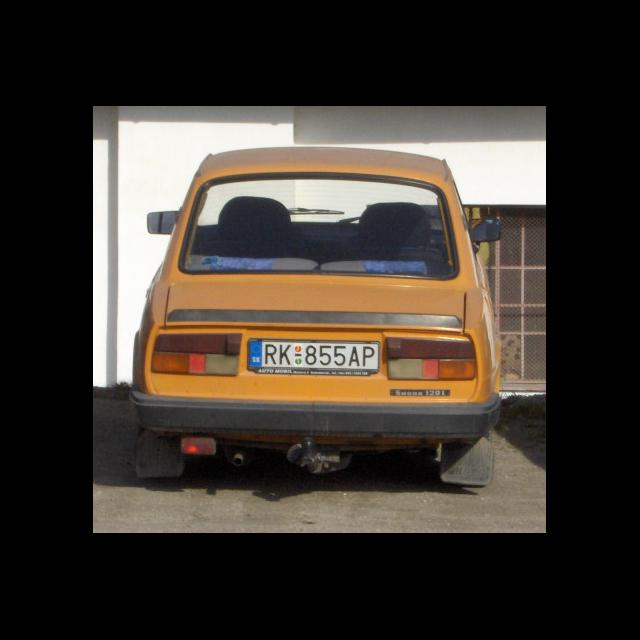Plate: (248, 336, 382, 374)
